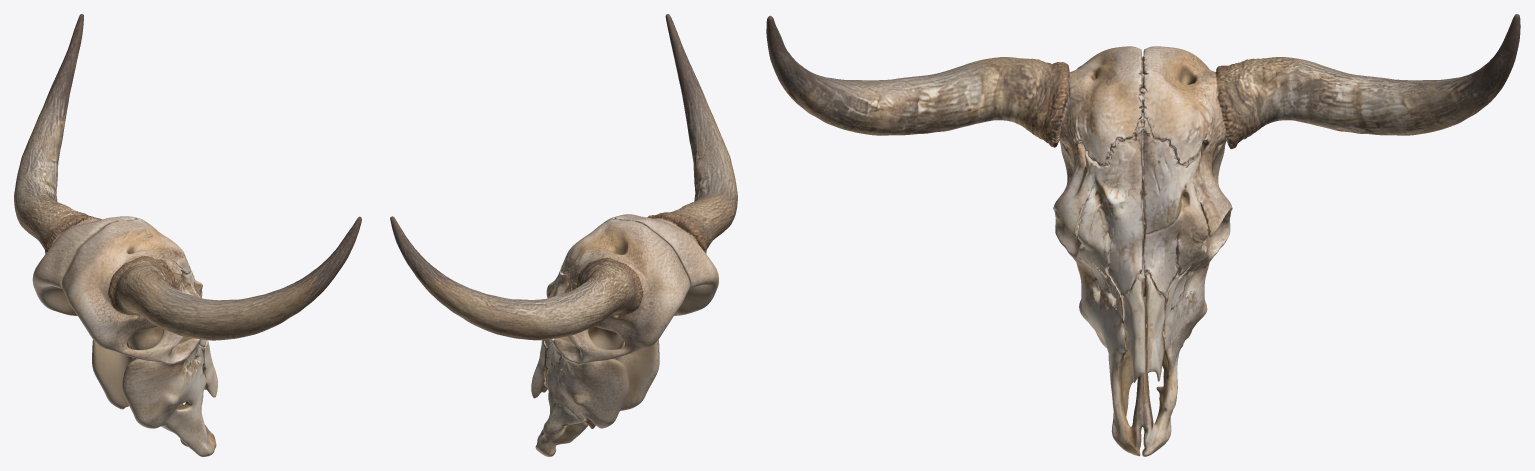
Rendered from emblem.glb.
3 renders of one model, left to right at view 1: azimuth 30°, elevation 25°; view 2: azimuth 150°, elevation 25°; view 3: azimuth 270°, elevation 25°, orthographic. The views are drawn at different scales.
Visible parts, largest first — view 1: tripo_node_716a92ee-a015-49f3-a7d5-6ea01b3fdbe1; view 2: tripo_node_716a92ee-a015-49f3-a7d5-6ea01b3fdbe1; view 3: tripo_node_716a92ee-a015-49f3-a7d5-6ea01b3fdbe1.
Boxes of the visible parts, left/top/right/bottom form: tripo_node_716a92ee-a015-49f3-a7d5-6ea01b3fdbe1: left=14, top=14, right=361, bottom=456; tripo_node_716a92ee-a015-49f3-a7d5-6ea01b3fdbe1: left=390, top=14, right=737, bottom=456; tripo_node_716a92ee-a015-49f3-a7d5-6ea01b3fdbe1: left=766, top=14, right=1520, bottom=456.
Size of the model in its own units: 0.3444 by 0.6448 by 0.9797.
1 material, 1 textured.
